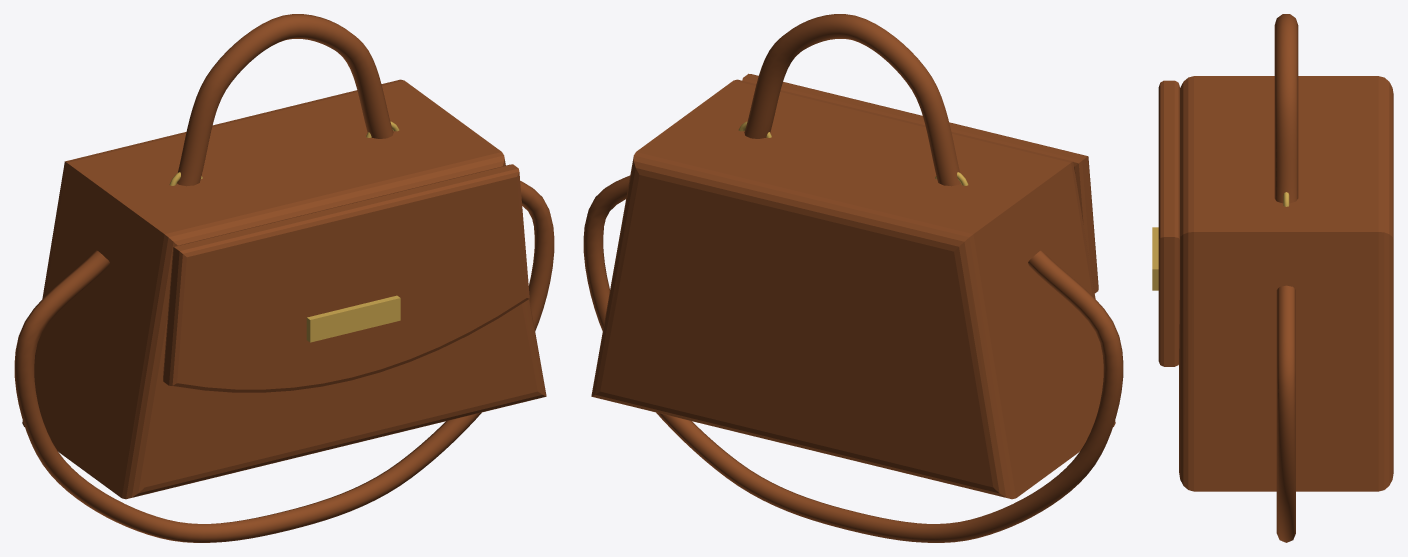
The model's file is bolso-cafe.glb.
The picture shows the model from 3 angles, left to right: view 1: azimuth 30°, elevation 25°; view 2: azimuth 150°, elevation 25°; view 3: azimuth 270°, elevation 25°; orthographic projection. The views are drawn at different scales.
Size of the model in its own units: 0.2737 by 0.2497 by 0.1125.
